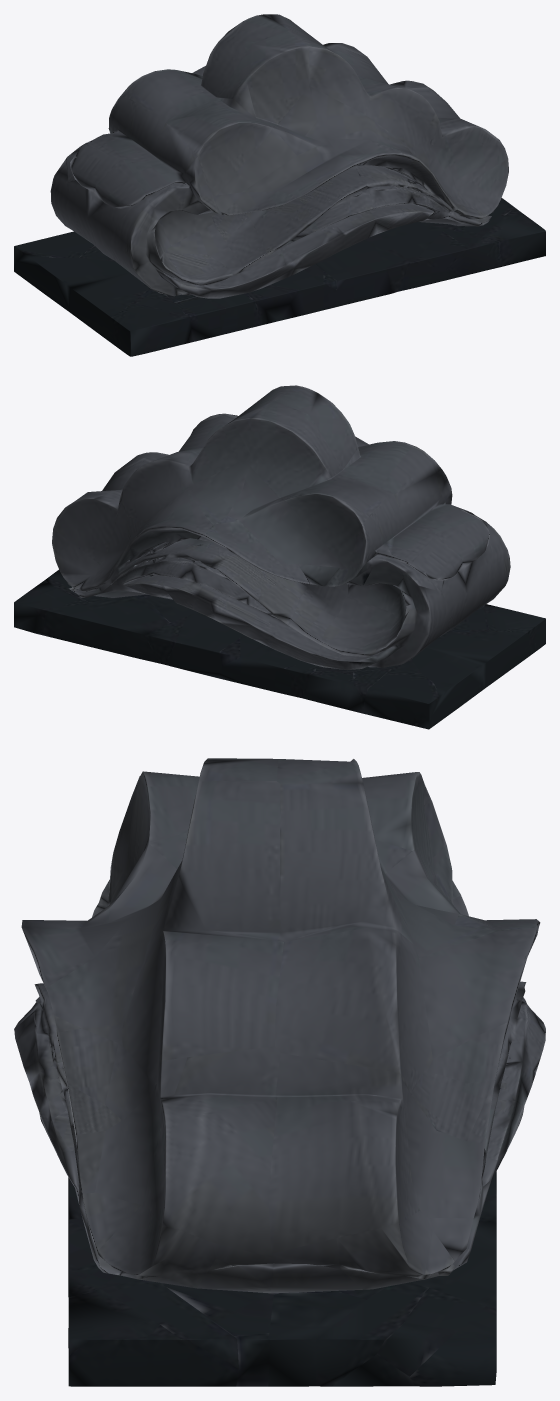
Rendered from co_cloud_p.glb.
The picture shows the model from 3 angles, top to bottom: view 1: azimuth 30°, elevation 25°; view 2: azimuth 150°, elevation 25°; view 3: azimuth 270°, elevation 25°; orthographic projection. The views are drawn at different scales.
Bounding box in the file's own units: 1.9 × 1.02 × 1.15.
Materials: 1 (1 with a texture image).
